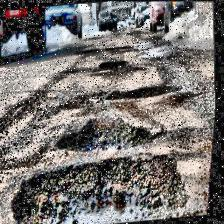pothole: (6, 146, 194, 224), (54, 103, 168, 160)
